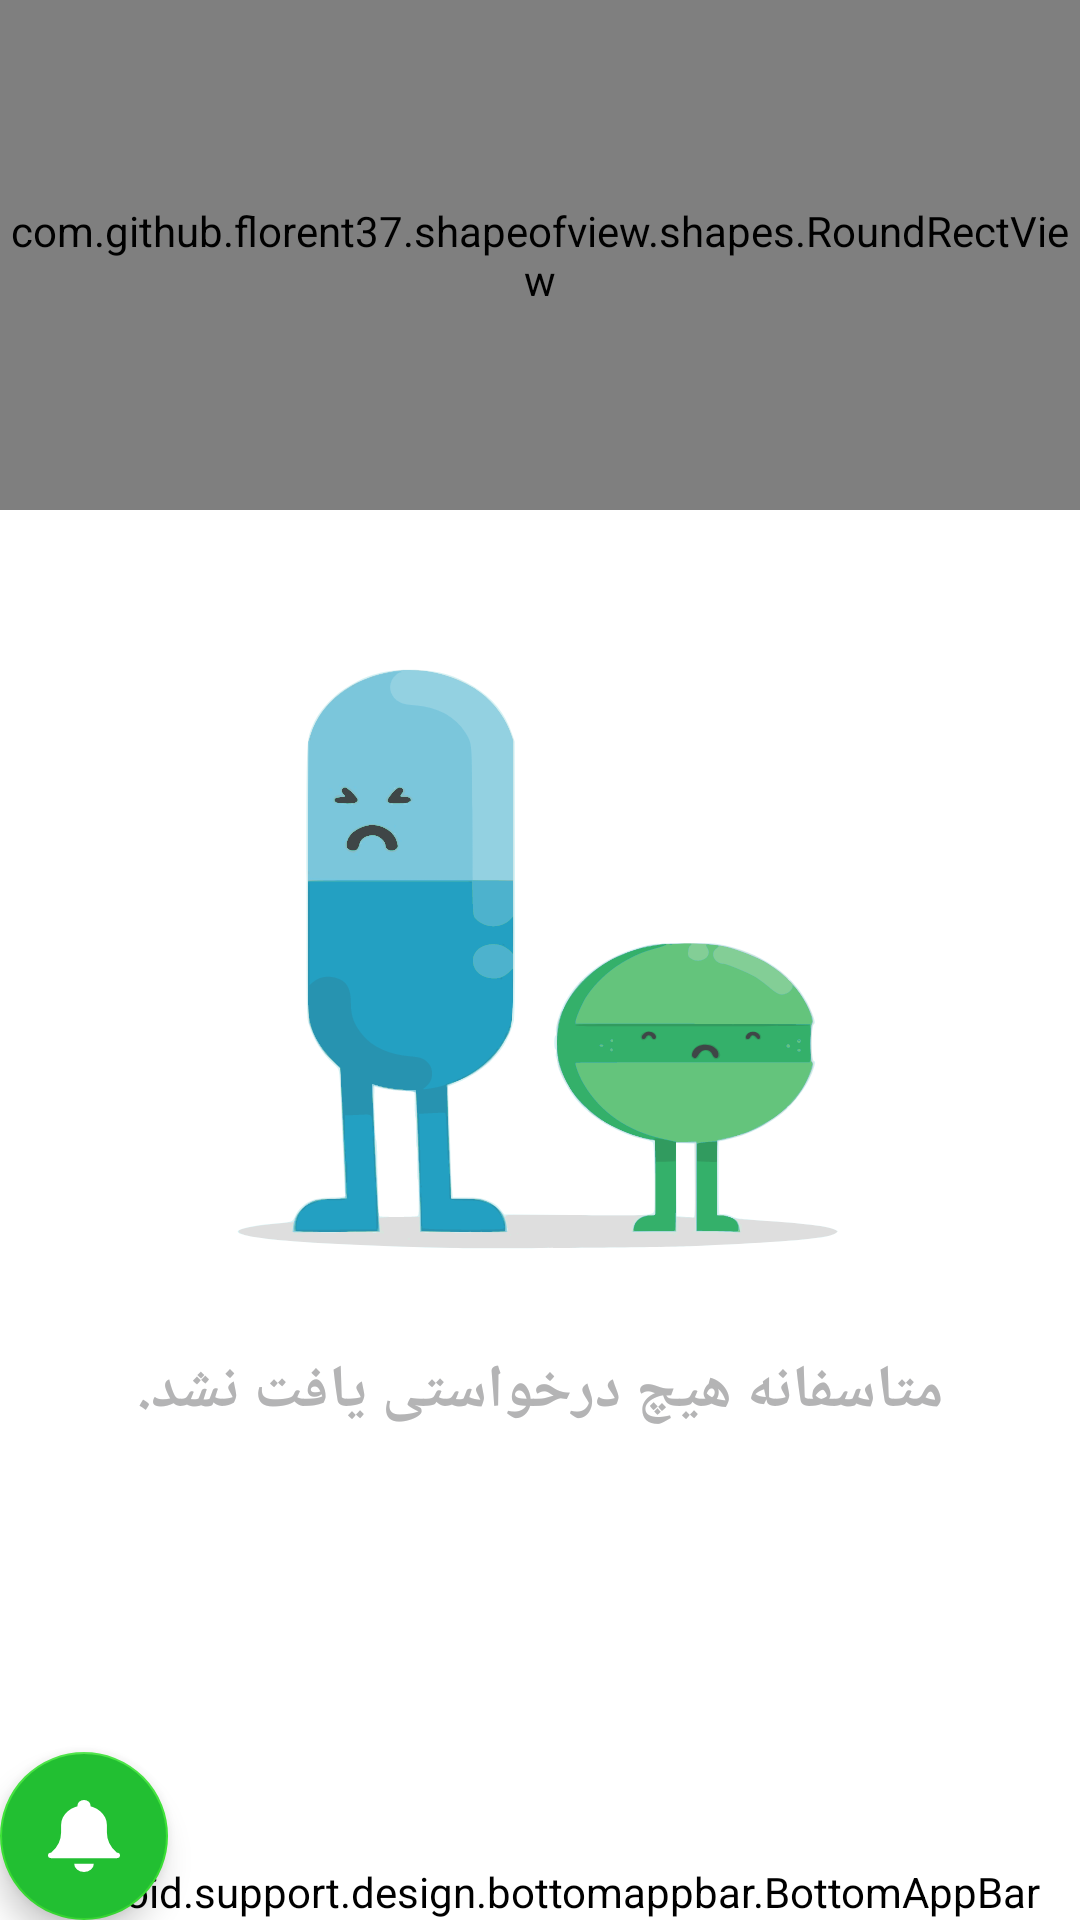

Locate icon controls on the screen. Image size 1080x1920, boxes as (x1, y1, x2, y2).
bell: (0, 1752, 168, 1920)
